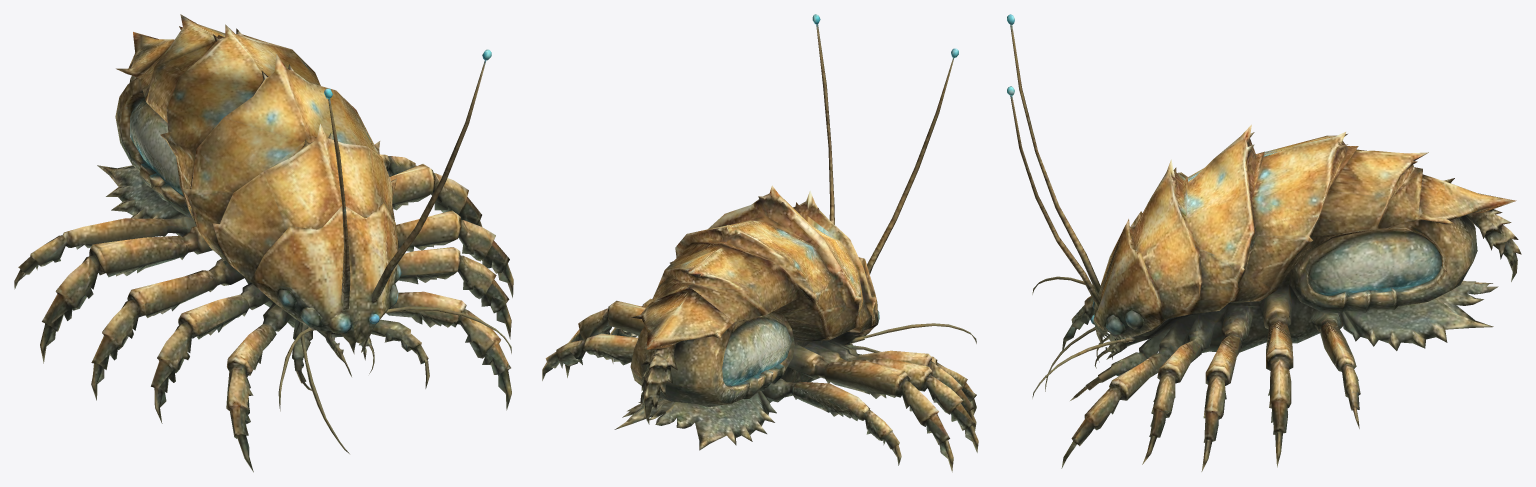
The model's file is hadal-chitin-scout-echo.glb.
The picture shows the model from 3 angles, left to right: view 1: azimuth 30°, elevation 25°; view 2: azimuth 150°, elevation 25°; view 3: azimuth 270°, elevation 25°; orthographic projection. The views are drawn at different scales.
Parts seen in each view (by area): view 1: tripo_node_4ab30bcf-7588-4a1a-8d20-e9e6922d1f59; view 2: tripo_node_4ab30bcf-7588-4a1a-8d20-e9e6922d1f59; view 3: tripo_node_4ab30bcf-7588-4a1a-8d20-e9e6922d1f59.
Part boxes in pixels (x1,y1,x2,y2): tripo_node_4ab30bcf-7588-4a1a-8d20-e9e6922d1f59: [14, 14, 513, 472]; tripo_node_4ab30bcf-7588-4a1a-8d20-e9e6922d1f59: [542, 14, 978, 472]; tripo_node_4ab30bcf-7588-4a1a-8d20-e9e6922d1f59: [1007, 14, 1521, 471].
Bounding box in the file's own units: 0.9199 × 0.7754 × 0.998.
Materials: 1 (1 with a texture image).
